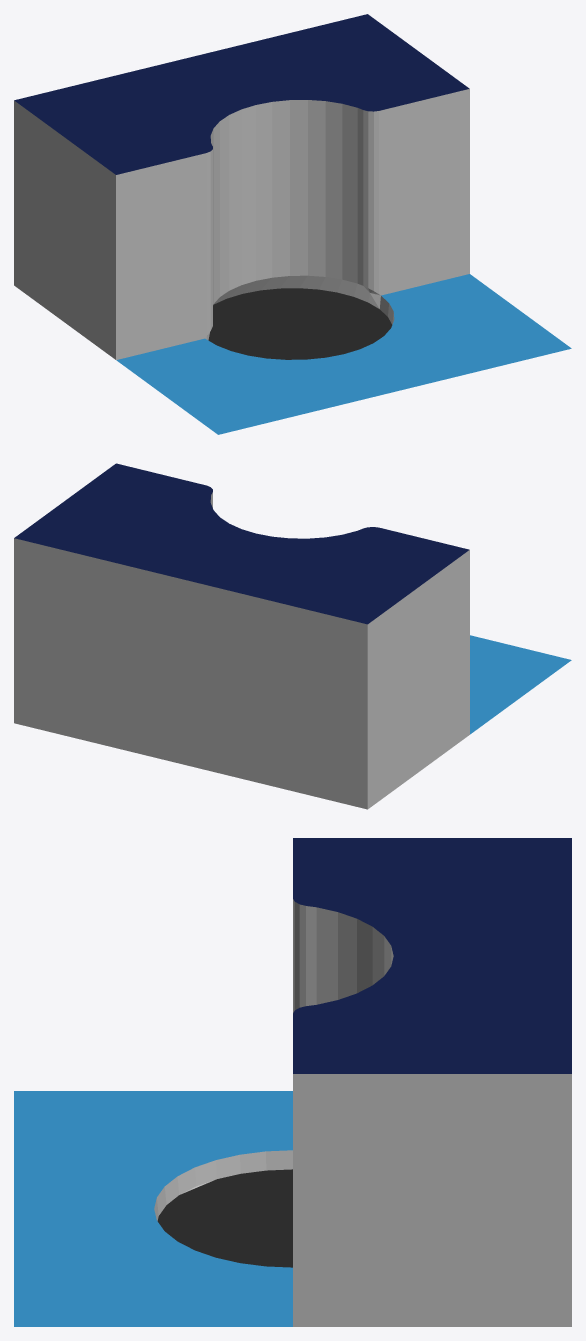
File: 0_piece_module_hole_i.fbx
3 views of the same model, one above another, from view 1: azimuth 30°, elevation 25°; view 2: azimuth 150°, elevation 25°; view 3: azimuth 270°, elevation 25° (orthographic). The views are drawn at different scales.
Parts seen in each view (by area): view 1: 0_piece_module_hole_i; view 2: 0_piece_module_hole_i; view 3: 0_piece_module_hole_i.
Part boxes in pixels (<box>): 0_piece_module_hole_i: <box>14,14,571,434</box>; 0_piece_module_hole_i: <box>14,463,571,809</box>; 0_piece_module_hole_i: <box>14,838,571,1326</box>.
Size of the model in its own units: 200 by 107 by 200.
